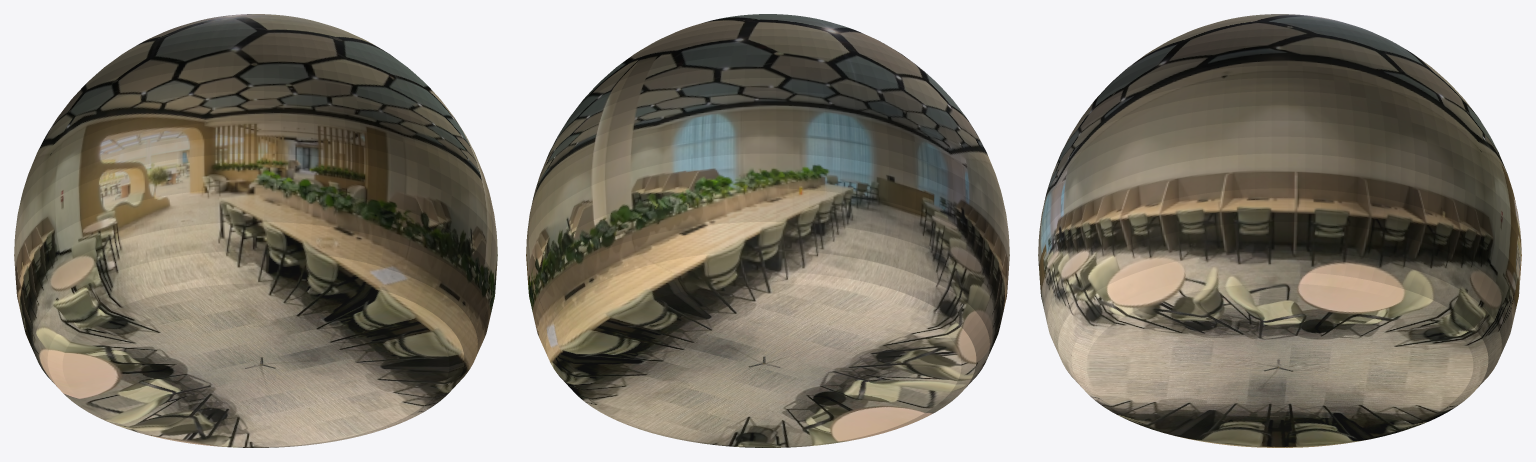
The model's file is library-corridor-034.glb.
3 renders of one model, left to right at view 1: azimuth 30°, elevation 25°; view 2: azimuth 150°, elevation 25°; view 3: azimuth 270°, elevation 25°, orthographic.
Bounding box in the file's own units: 2 × 1.5 × 2.
Materials: 1 (1 with a texture image).
